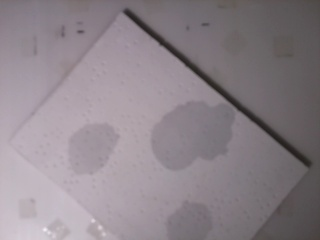Water_detected: (157, 101, 219, 161), (76, 130, 115, 168), (175, 198, 200, 229)
